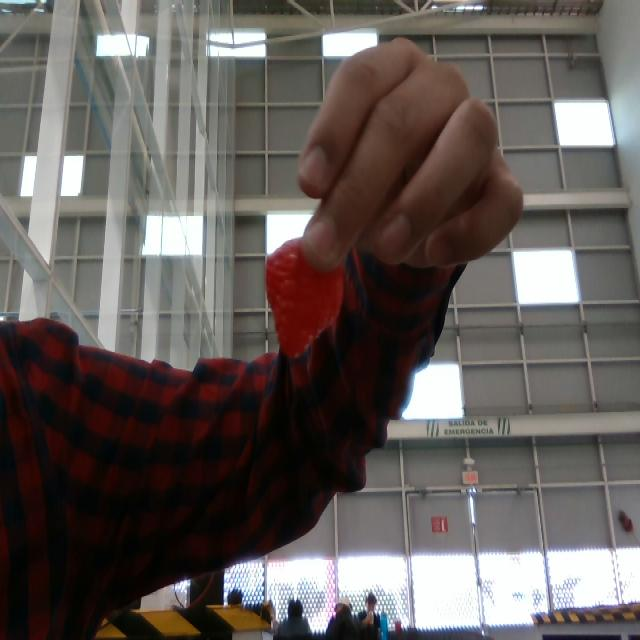chica_roja: (266, 239, 343, 356)
